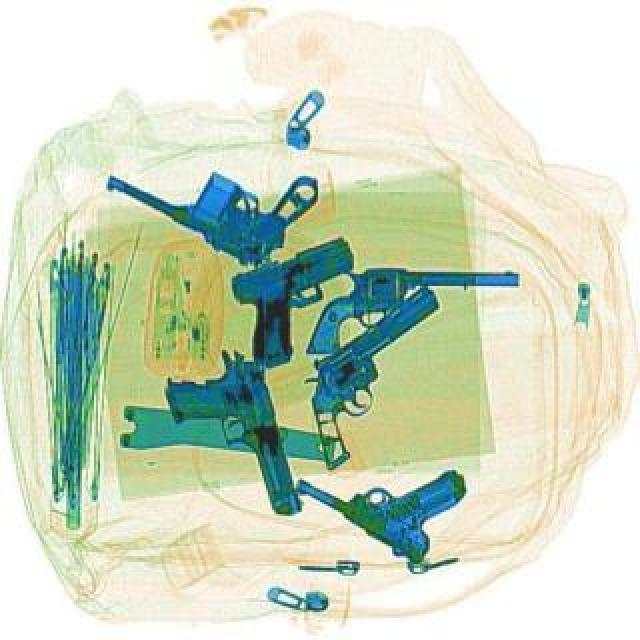gun: (266, 276, 492, 470), (104, 94, 330, 274), (288, 404, 480, 566), (158, 338, 306, 532), (222, 232, 390, 370), (306, 266, 522, 354)
